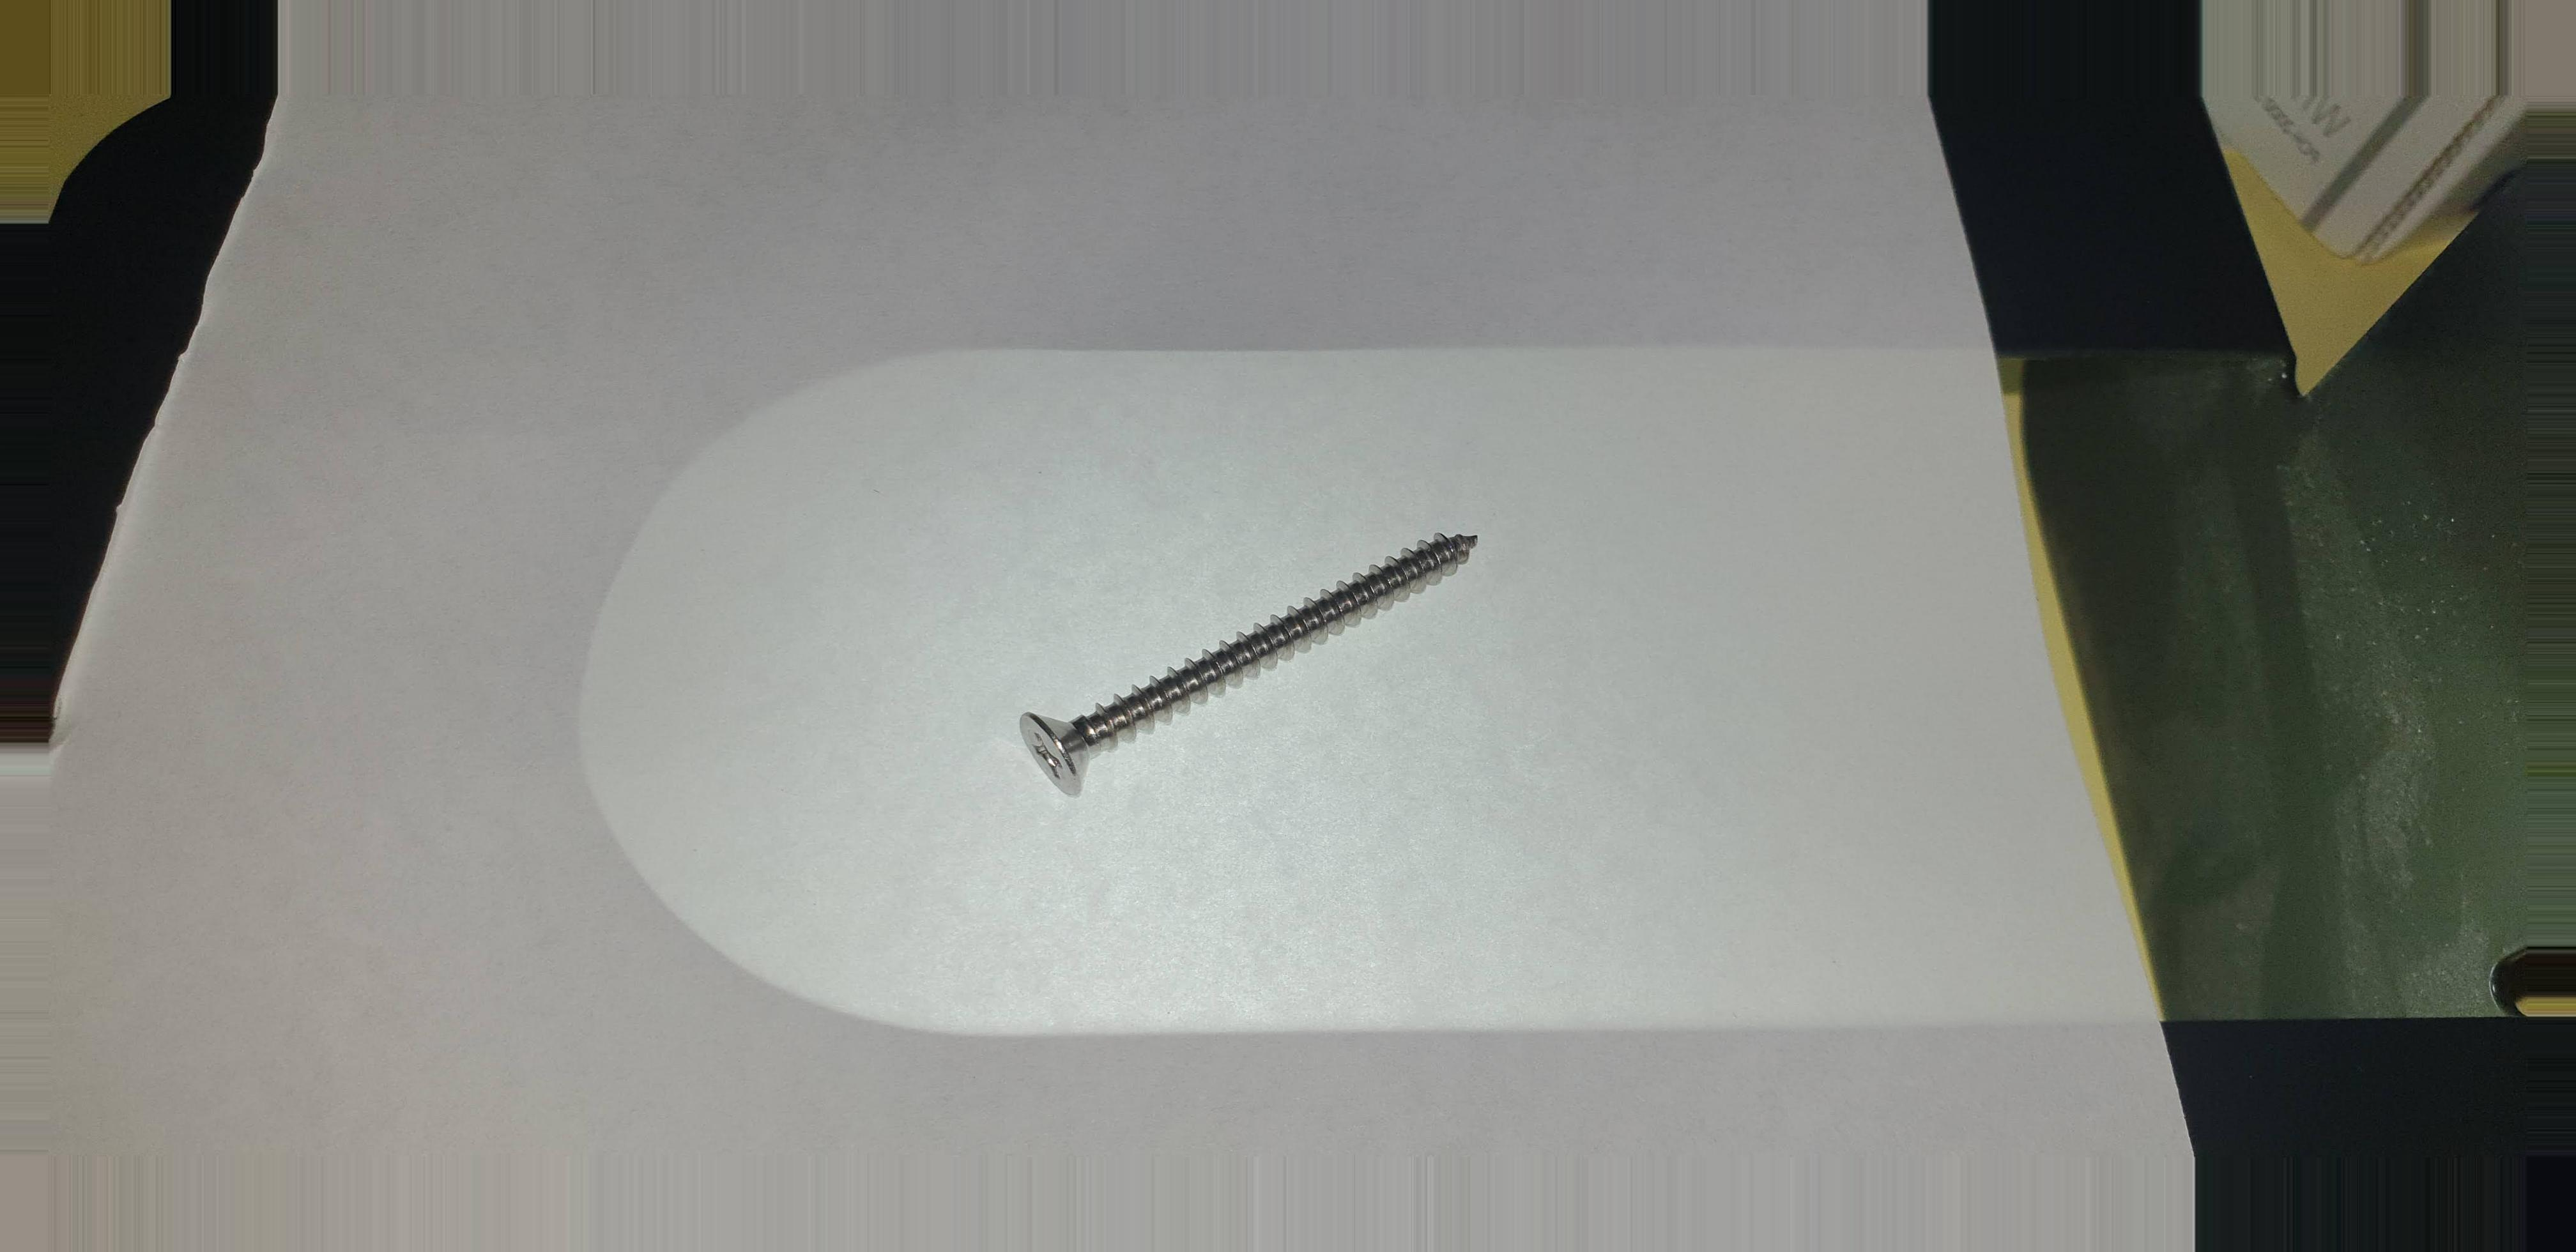fastener: (963, 522, 1584, 810)
